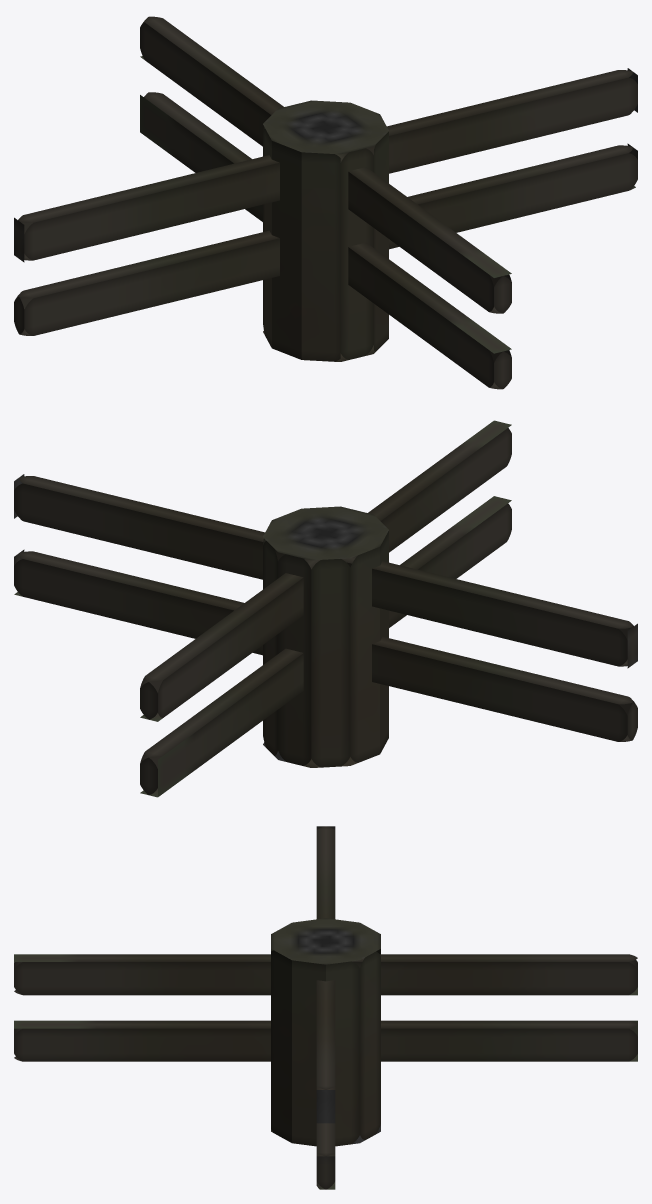
Rendered from ore_leacher_lopasti.obj.
3 renders of one model, top to bottom at view 1: azimuth 30°, elevation 25°; view 2: azimuth 150°, elevation 25°; view 3: azimuth 270°, elevation 25°, orthographic. The views are drawn at different scales.
Visible parts, largest first — view 1: mesh; view 2: mesh; view 3: mesh.
Part boxes in pixels (bbox=[...]): mesh: bbox=[14, 16, 637, 389]; mesh: bbox=[14, 420, 637, 797]; mesh: bbox=[14, 826, 637, 1189].
Bounding box in the file's own units: 2.12 × 0.6875 × 2.12.
